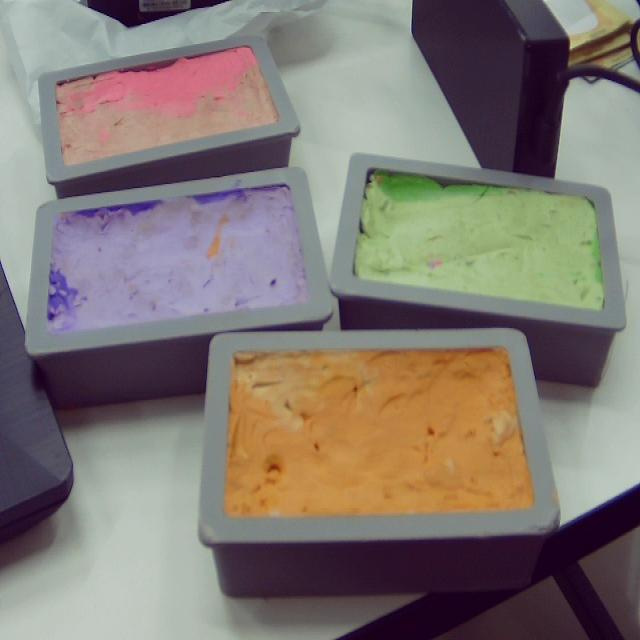block: (195, 324, 562, 598), (22, 164, 336, 408), (329, 152, 626, 389), (36, 36, 302, 202)
